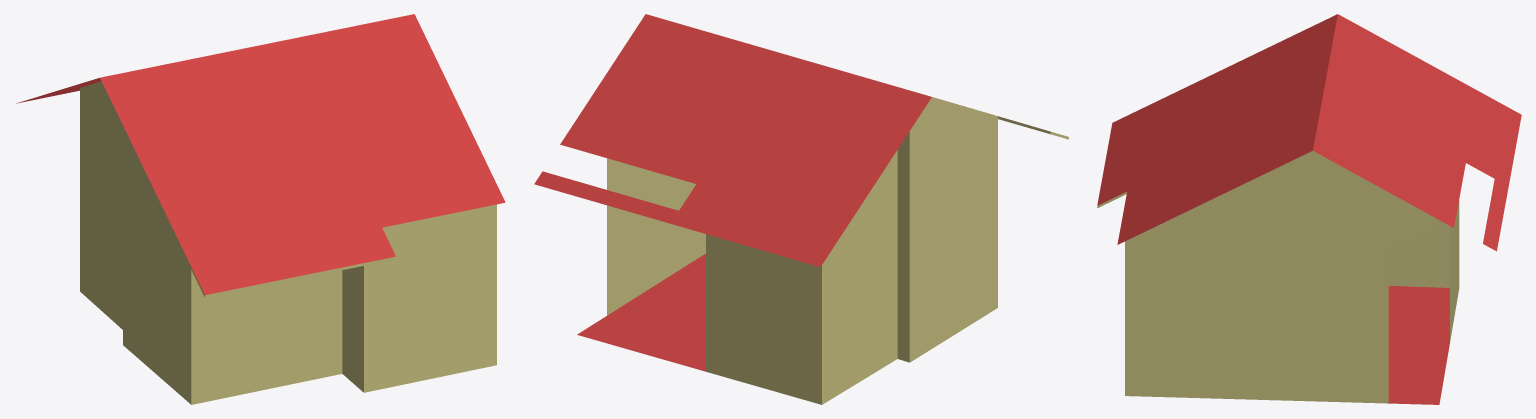
The picture shows the model from 3 angles, left to right: view 1: azimuth 30°, elevation 25°; view 2: azimuth 150°, elevation 25°; view 3: azimuth 270°, elevation 25°; orthographic projection. The views are drawn at different scales.
Bounding box in the file's own units: 12.63 × 15.1 × 9.96.
